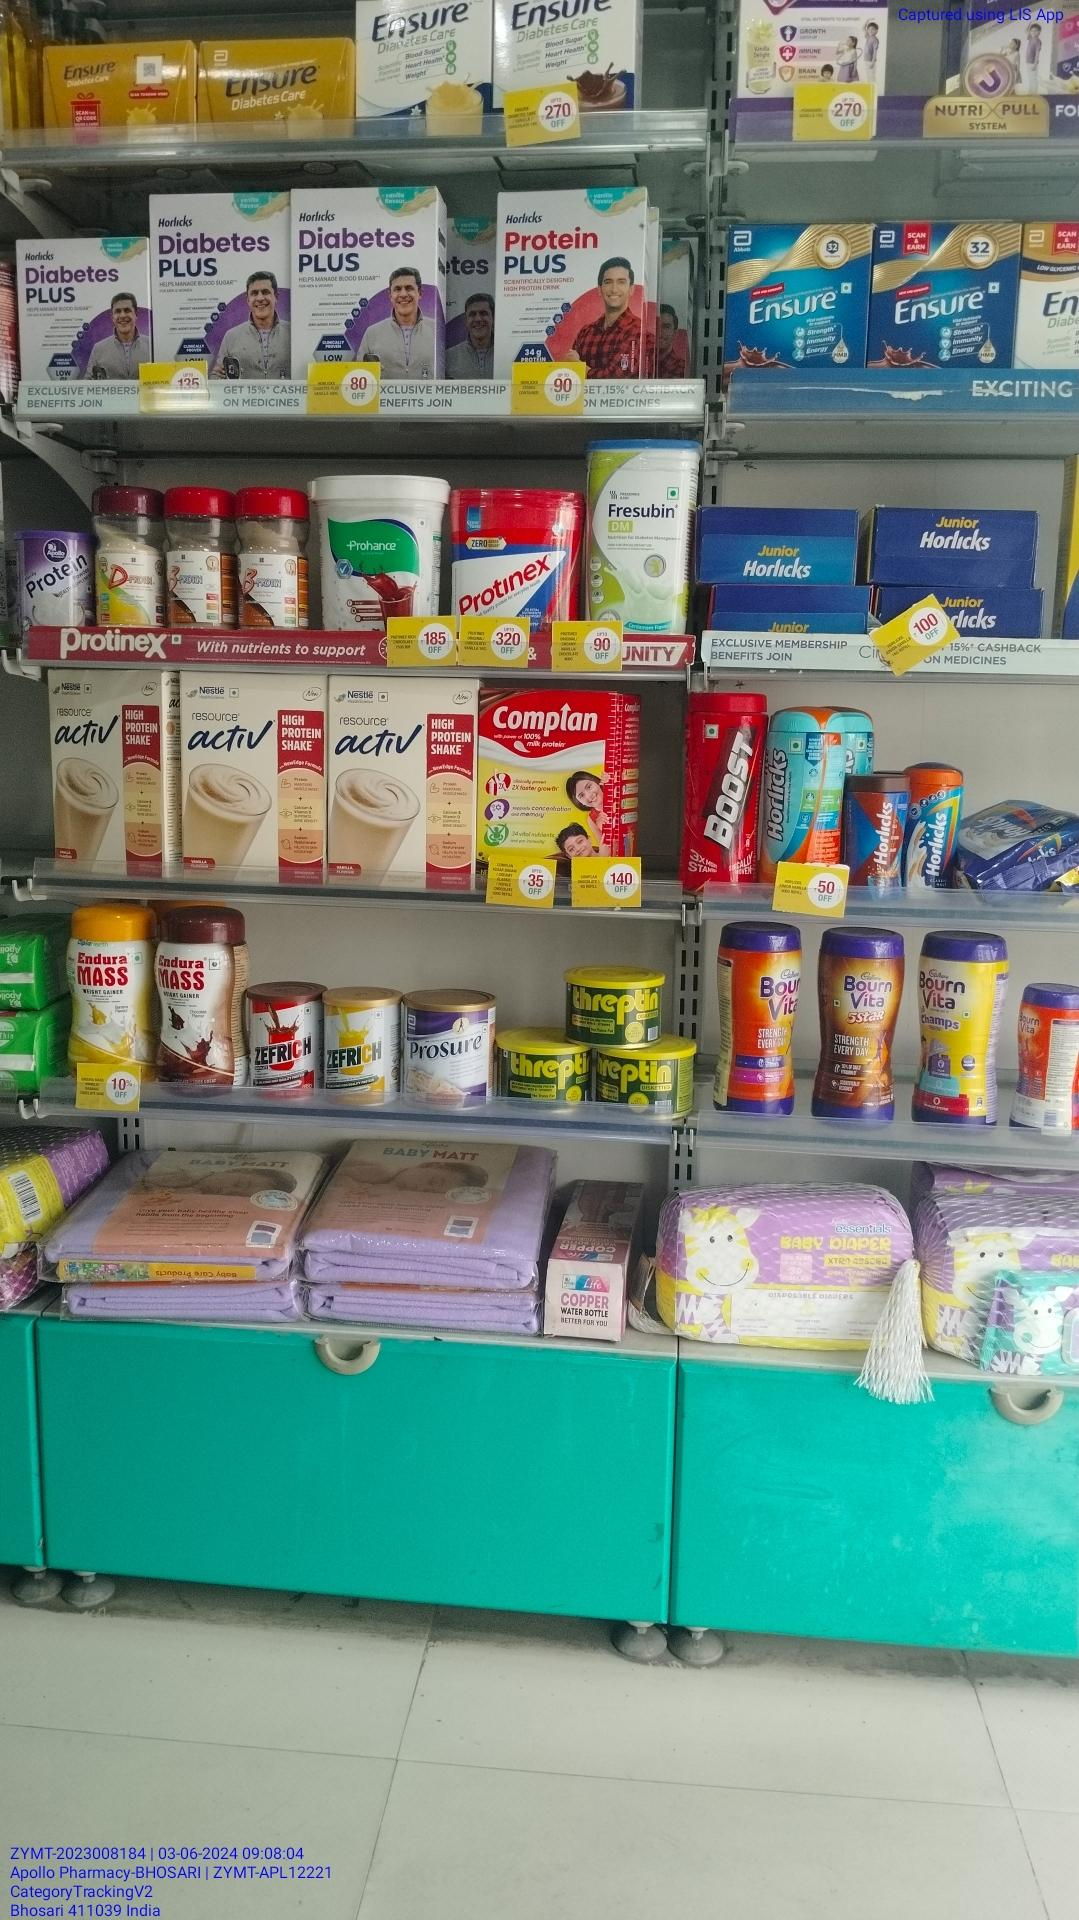BOURN_VITA_500_G_JAR: (716, 923, 798, 1114)
BOURN_VITA_CHAMPS_500_G_JAR: (910, 928, 1002, 1126)
BOURN_VITA_FIVE_STAR_MAGIC_500_G_JAR: (817, 928, 900, 1120)
HORLICKS_LITE_REGULAR_MALT_500_GM_JAR: (768, 708, 840, 860)
HORLICK_CHOCOLATE_200_G_JAR: (847, 775, 906, 891)
PROTINEX_CHOCOLATE_400_G_JAR: (454, 491, 574, 620)
